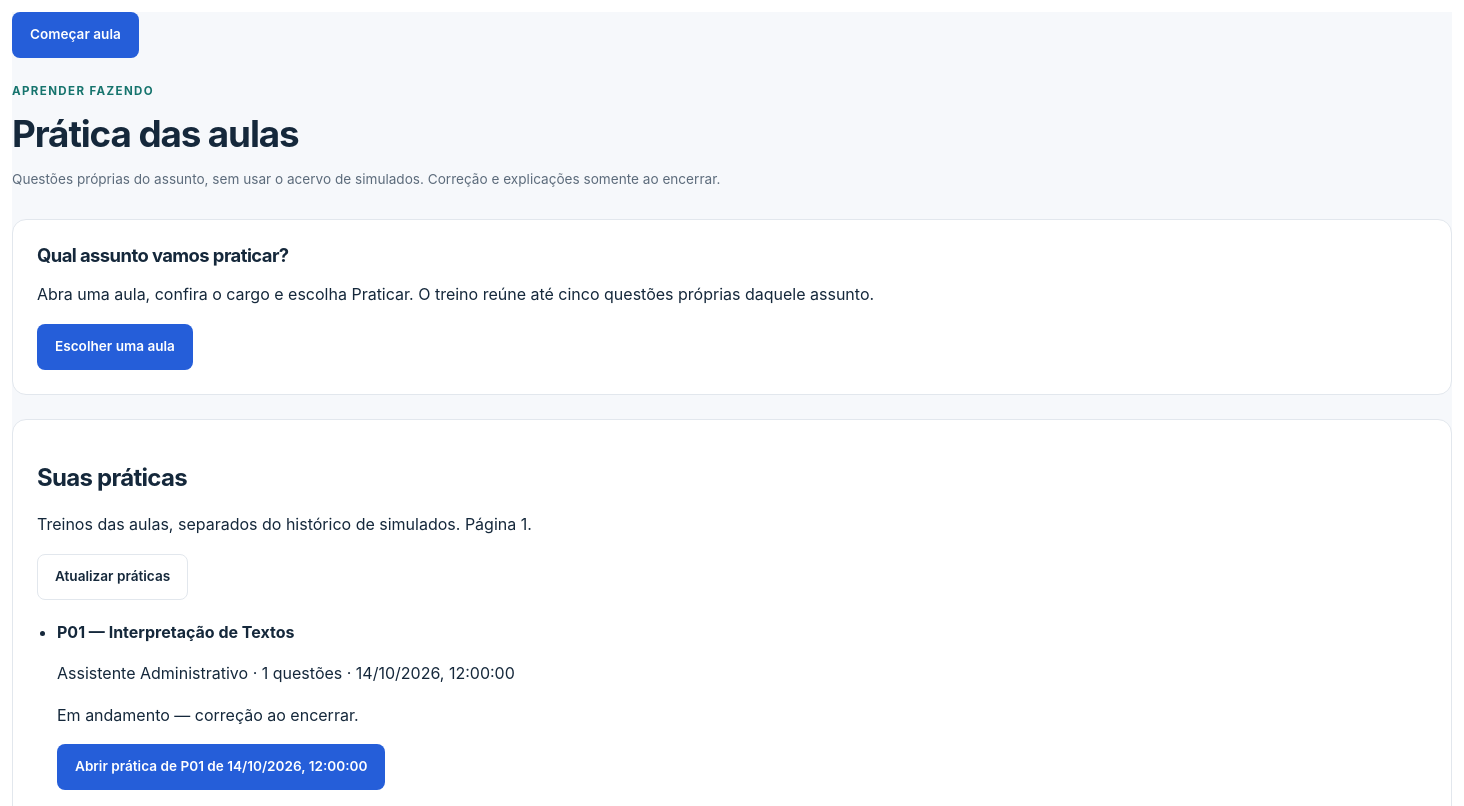
it: histórico próprio é reservado à conta e inclui o assunto
The image size is (1464, 806).
Click the button "Abrir prática de P01 de 14/10/2026, 12:00:00" at (221, 767), box [57,744,386,790]
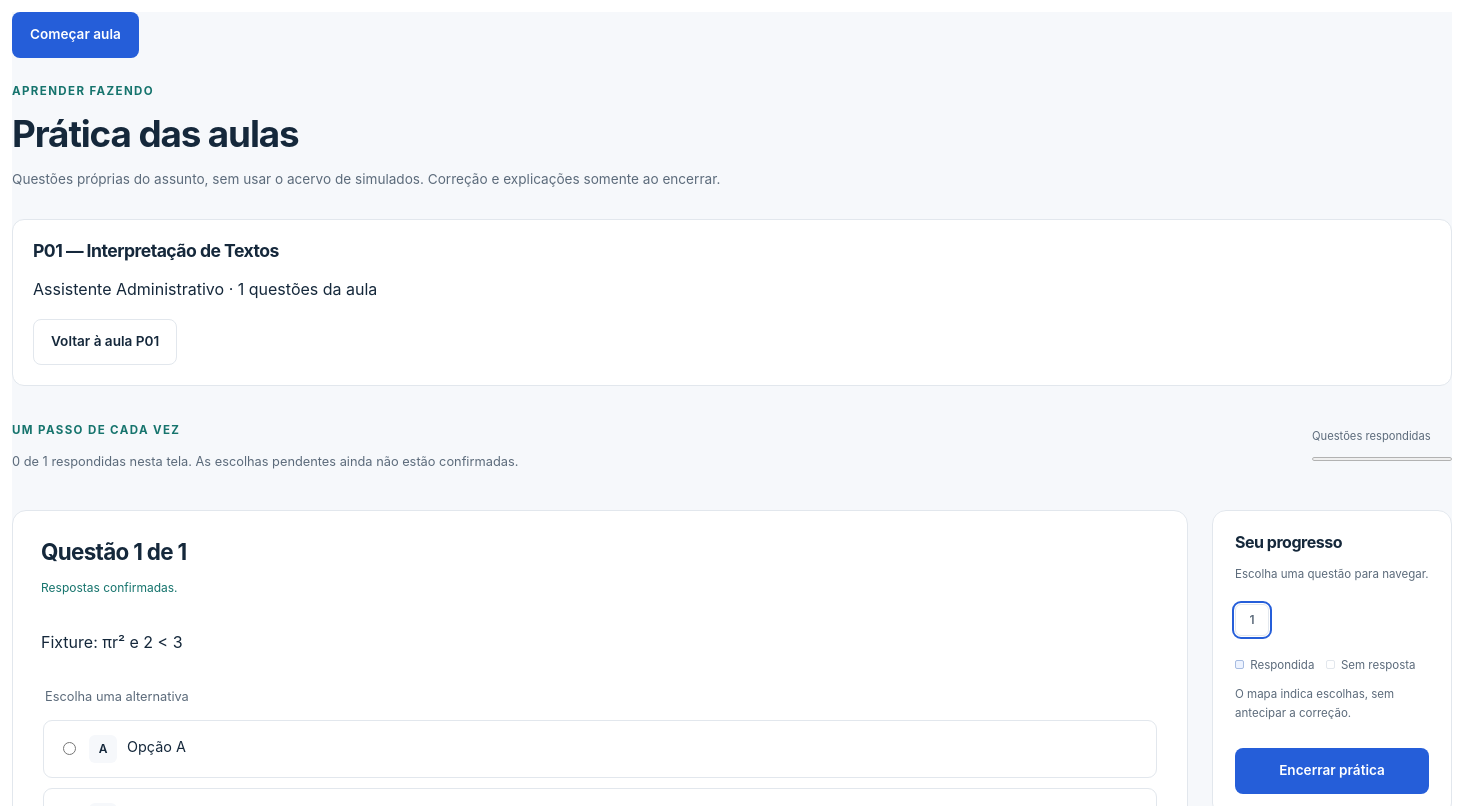
Check: the heading "Questão 1 de 1" is shown, box [41,538,186,565]
